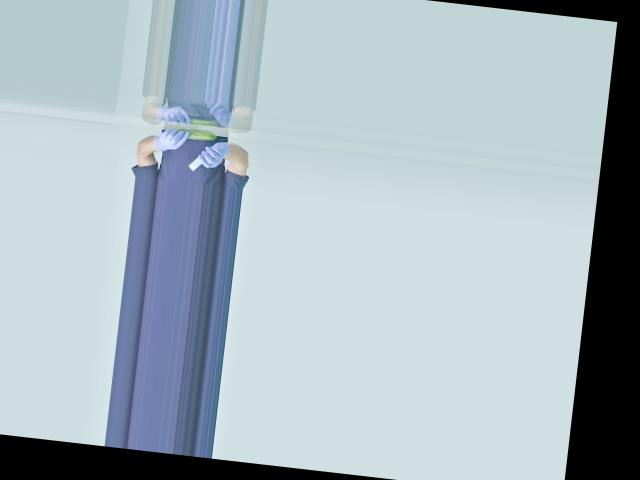cucumber: (176, 127, 217, 141)
